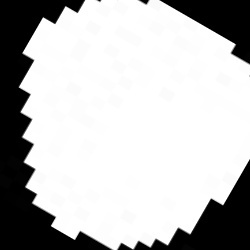spot: (20, 2, 249, 248)
